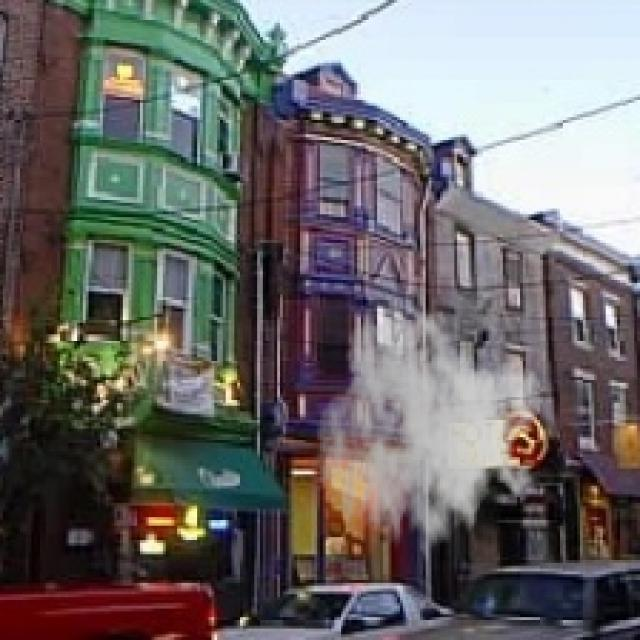smoke: (314, 297, 543, 577)
